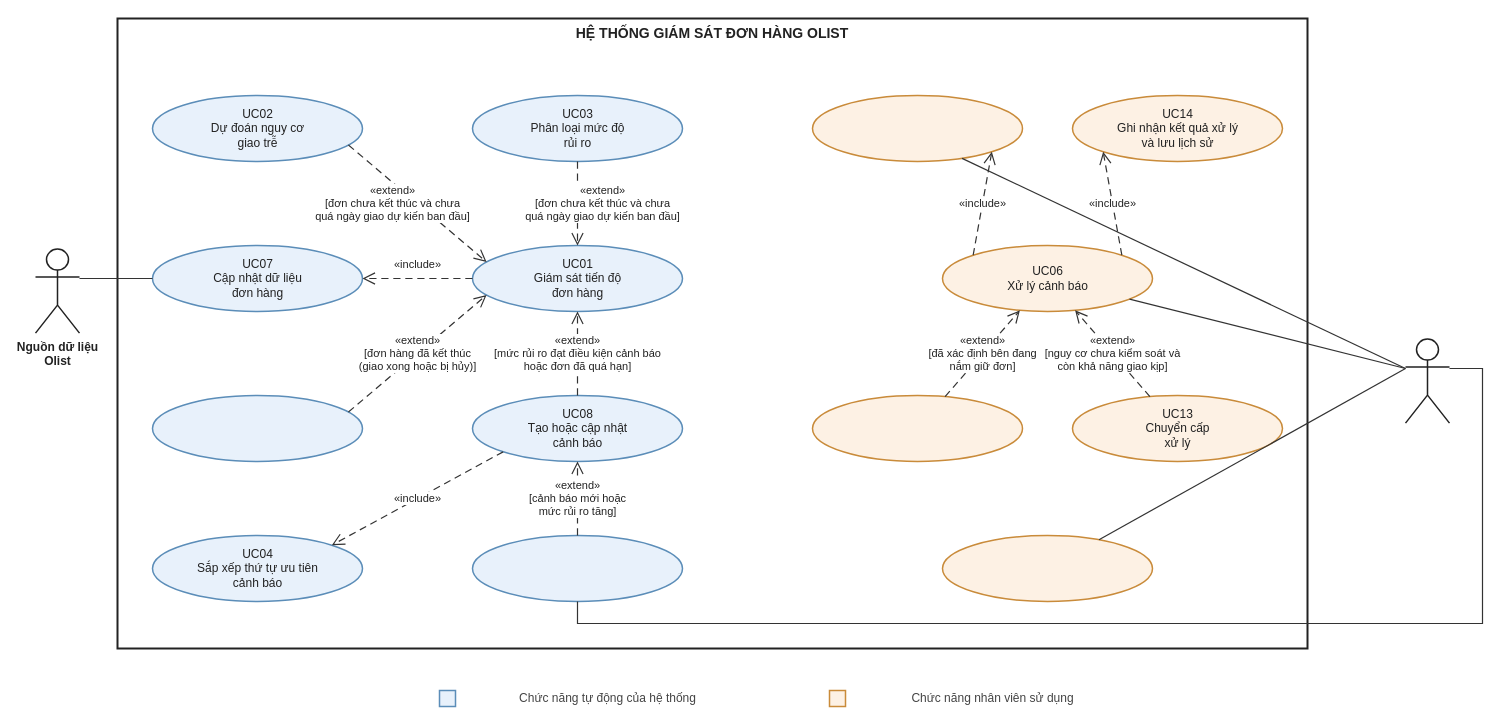
The diagram is 1502 pixels wide and 724 high, and some of its shapes have lost their labels. The shapes that lost their labels are listed below. From the top down, each one's centre as x and y in pixels, then its label:
[917,128]: UC11 Kiểm tra tình trạng đơn hàng
[1427,380]: Nhân viên vận hành
[257,428]: UC10 Đối chiếu kết quả giao hàng và đóng cảnh báo
[917,428]: UC12 Phối hợp với người bán / đơn vị vận chuyển
[577,568]: UC09 Gửi thông báo cảnh báo
[1047,568]: UC05 Xem danh sách cảnh báo ưu tiên
